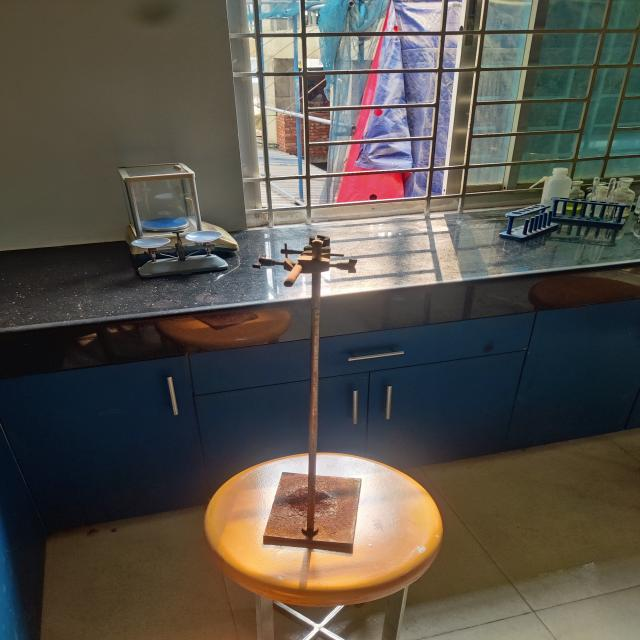Burette_Stands: (254, 222, 403, 576)
